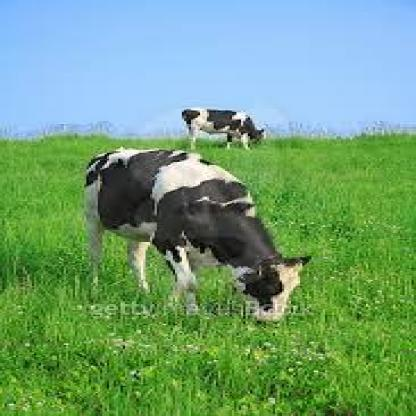cow: (83, 149, 310, 321), (181, 109, 267, 147)
